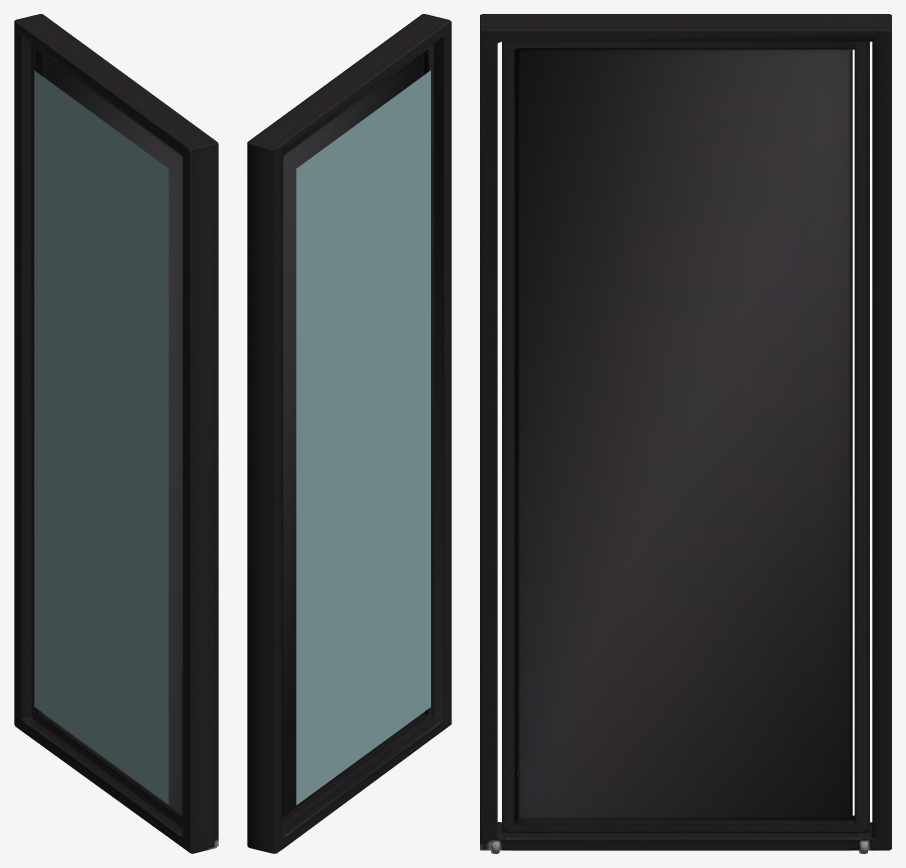
The model's file is tall glass window 3d model_1x2_fixed_v01.glb.
The picture shows the model from 3 angles, left to right: view 1: azimuth 30°, elevation 25°; view 2: azimuth 150°, elevation 25°; view 3: azimuth 270°, elevation 25°; orthographic projection. The views are drawn at different scales.
Visible parts, largest first — view 1: GlassPanel_ColorOnly, WindowFrame_Tripo_Cleaned_1x2; view 2: GlassPanel_ColorOnly, WindowFrame_Tripo_Cleaned_1x2; view 3: WindowFrame_Tripo_Cleaned_1x2.
Part boxes in pixels (x1=…): GlassPanel_ColorOnly: x1=34, y1=70, x2=168, y2=804; WindowFrame_Tripo_Cleaned_1x2: x1=14, y1=14, x2=218, y2=853; GlassPanel_ColorOnly: x1=296, y1=70, x2=430, y2=805; WindowFrame_Tripo_Cleaned_1x2: x1=247, y1=14, x2=451, y2=853; WindowFrame_Tripo_Cleaned_1x2: x1=480, y1=14, x2=891, y2=853.
Size of the model in its own units: 0.0808 by 1.65 by 0.75.
Materials: 2 (1 with a texture image).
